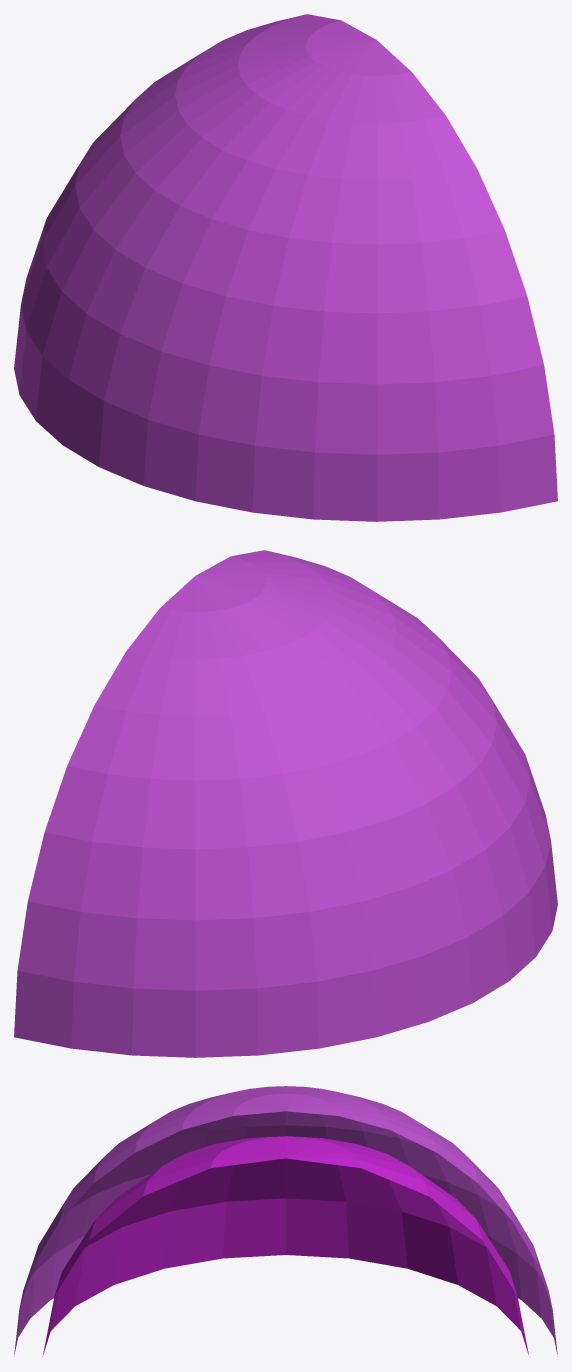
File: Monocyte_quarter.fbx
3 renders of one model, top to bottom at view 1: azimuth 30°, elevation 25°; view 2: azimuth 150°, elevation 25°; view 3: azimuth 270°, elevation 25°, orthographic. The views are drawn at different scales.
Parts seen in each view (by area): view 1: Monocyte; view 2: Monocyte; view 3: Monocyte.
Boxes of the visible parts, x1,y1,x2,y2 form: Monocyte: (14,14,557,521); Monocyte: (14,550,557,1057); Monocyte: (14,1086,557,1356).
Size of the model in its own units: 85 by 85 by 170.
